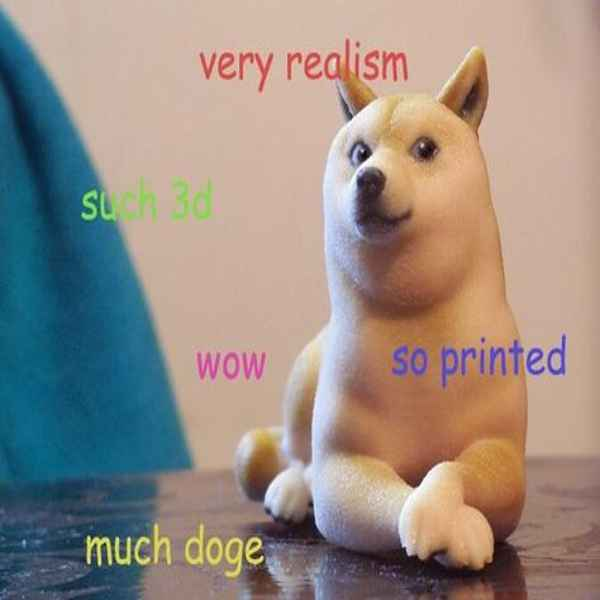doge: (312, 43, 496, 275)
